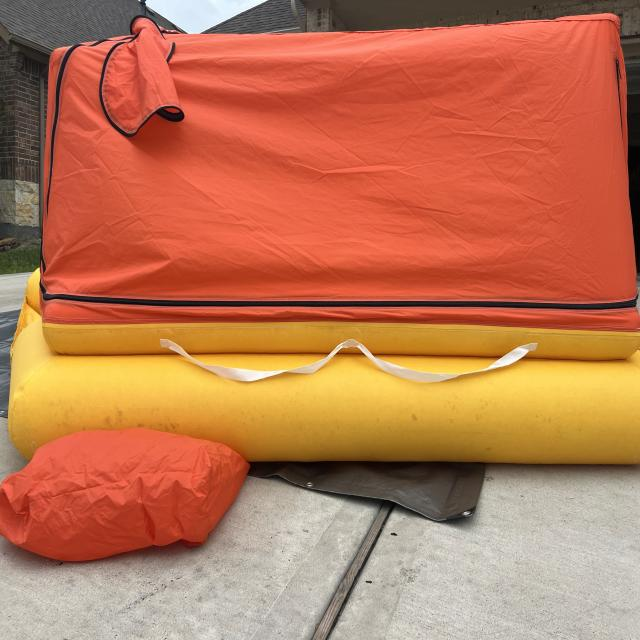Multi-person_life_raft: (1, 12, 640, 566)
